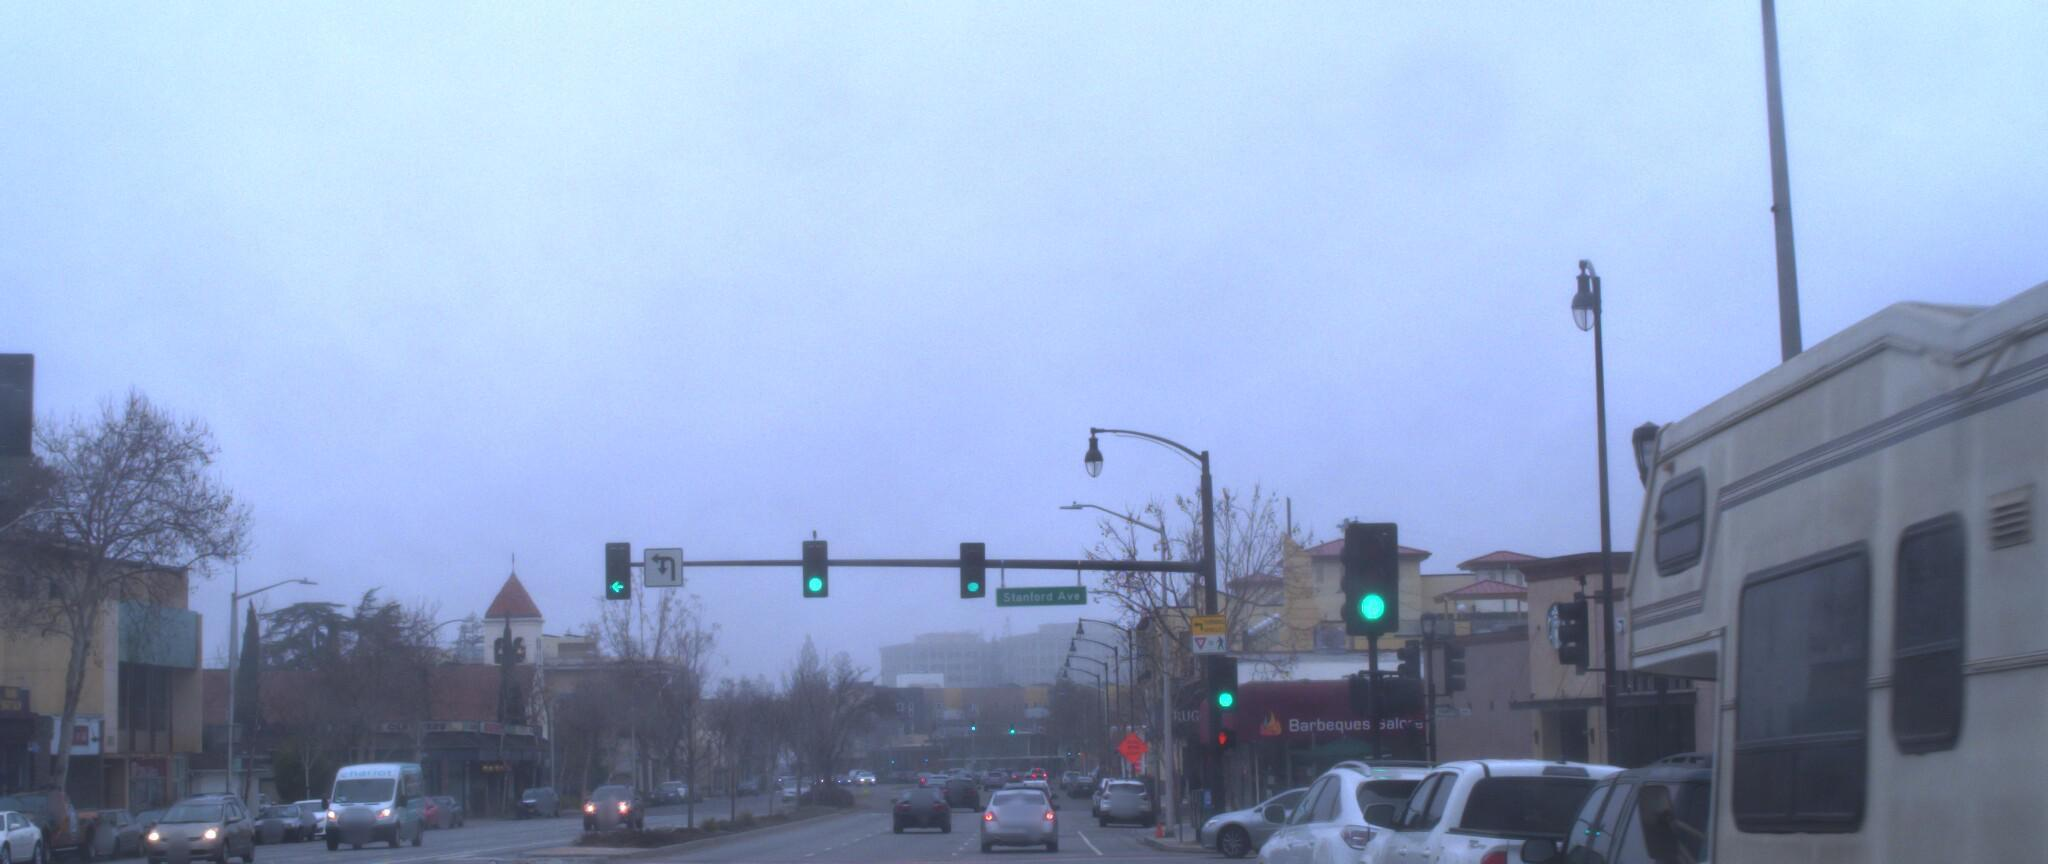car: (1472, 730, 2028, 864), (1326, 747, 1778, 864), (1230, 744, 1579, 864), (1166, 766, 1432, 857), (121, 786, 257, 864), (0, 773, 110, 864), (965, 771, 1063, 852), (0, 797, 47, 864), (0, 774, 31, 864)
other_vehicle: (1523, 0, 2048, 864)
